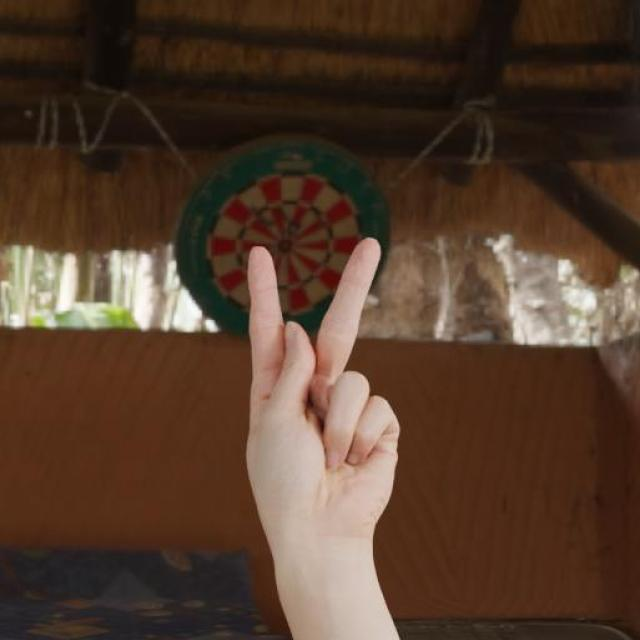K: (238, 232, 406, 554)
